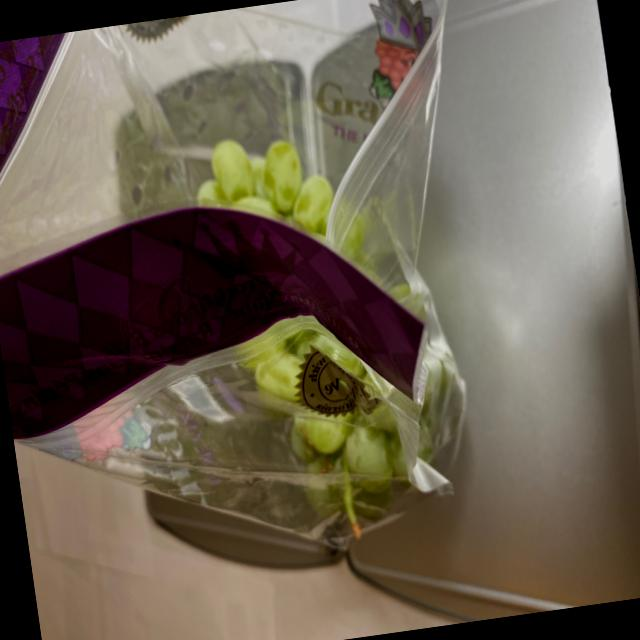grapes: (172, 95, 428, 528)
